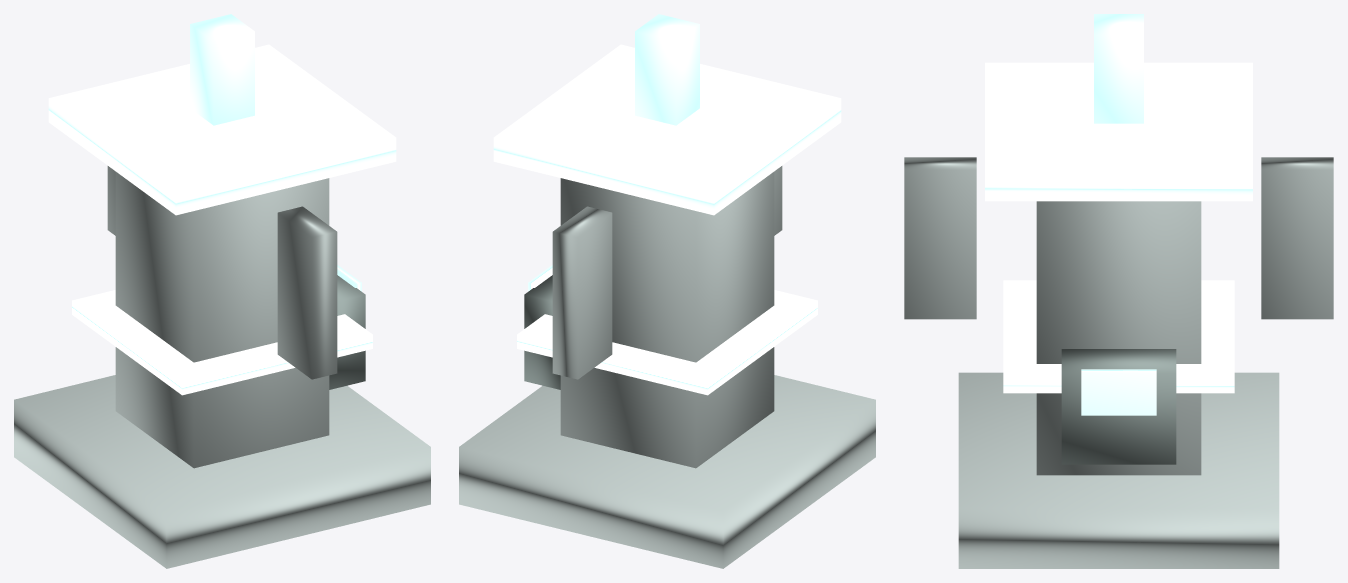
File: spin-habitat-axis-hub-lod1.glb
The picture shows the model from 3 angles, left to right: view 1: azimuth 30°, elevation 25°; view 2: azimuth 150°, elevation 25°; view 3: azimuth 270°, elevation 25°; orthographic projection. The views are drawn at different scales.
Visible parts, largest first — view 1: spin-habitat-axis-hub-foot, spin-habitat-axis-hub-core, spin-habitat-axis-hub-collar, spin-habitat-axis-hub-fin-right, spin-habitat-axis-hub-service-ring, spin-habitat-axis-hub-beacon, spin-habitat-axis-hub-control-bank, spin-habitat-axis-hub-fin-left; view 2: spin-habitat-axis-hub-foot, spin-habitat-axis-hub-core, spin-habitat-axis-hub-collar, spin-habitat-axis-hub-fin-left, spin-habitat-axis-hub-service-ring, spin-habitat-axis-hub-beacon, spin-habitat-axis-hub-control-bank, spin-habitat-axis-hub-fin-right; view 3: spin-habitat-axis-hub-foot, spin-habitat-axis-hub-collar, spin-habitat-axis-hub-core, spin-habitat-axis-hub-fin-left, spin-habitat-axis-hub-fin-right, spin-habitat-axis-hub-control-bank, spin-habitat-axis-hub-service-ring, spin-habitat-axis-hub-beacon, spin-habitat-axis-hub-control-screen.
Part boxes in pixels (x1,y1,x2,y2): spin-habitat-axis-hub-foot: (14,375,430,568); spin-habitat-axis-hub-core: (115,172,329,468); spin-habitat-axis-hub-collar: (48,44,396,215); spin-habitat-axis-hub-fin-right: (277,206,337,379); spin-habitat-axis-hub-service-ring: (72,290,372,395); spin-habitat-axis-hub-beacon: (190,14,254,125); spin-habitat-axis-hub-control-bank: (329,275,365,389); spin-habitat-axis-hub-fin-left: (107,166,115,235); spin-habitat-axis-hub-foot: (459,375,875,568); spin-habitat-axis-hub-core: (560,172,774,468); spin-habitat-axis-hub-collar: (493,44,841,215); spin-habitat-axis-hub-fin-left: (552,206,612,379); spin-habitat-axis-hub-service-ring: (517,290,817,395); spin-habitat-axis-hub-beacon: (635,14,699,125); spin-habitat-axis-hub-control-bank: (524,275,560,389); spin-habitat-axis-hub-fin-right: (774,166,782,235); spin-habitat-axis-hub-foot: (958,372,1279,568); spin-habitat-axis-hub-collar: (985,62,1252,201); spin-habitat-axis-hub-core: (1036,201,1201,475); spin-habitat-axis-hub-fin-left: (1261,157,1333,319); spin-habitat-axis-hub-fin-right: (904,157,976,319); spin-habitat-axis-hub-control-bank: (1061,349,1176,464); spin-habitat-axis-hub-service-ring: (1003,280,1234,393); spin-habitat-axis-hub-beacon: (1094,14,1143,123); spin-habitat-axis-hub-control-screen: (1081,369,1156,415).
Size of the model in its own units: 2.3 by 3.77 by 3.08.
